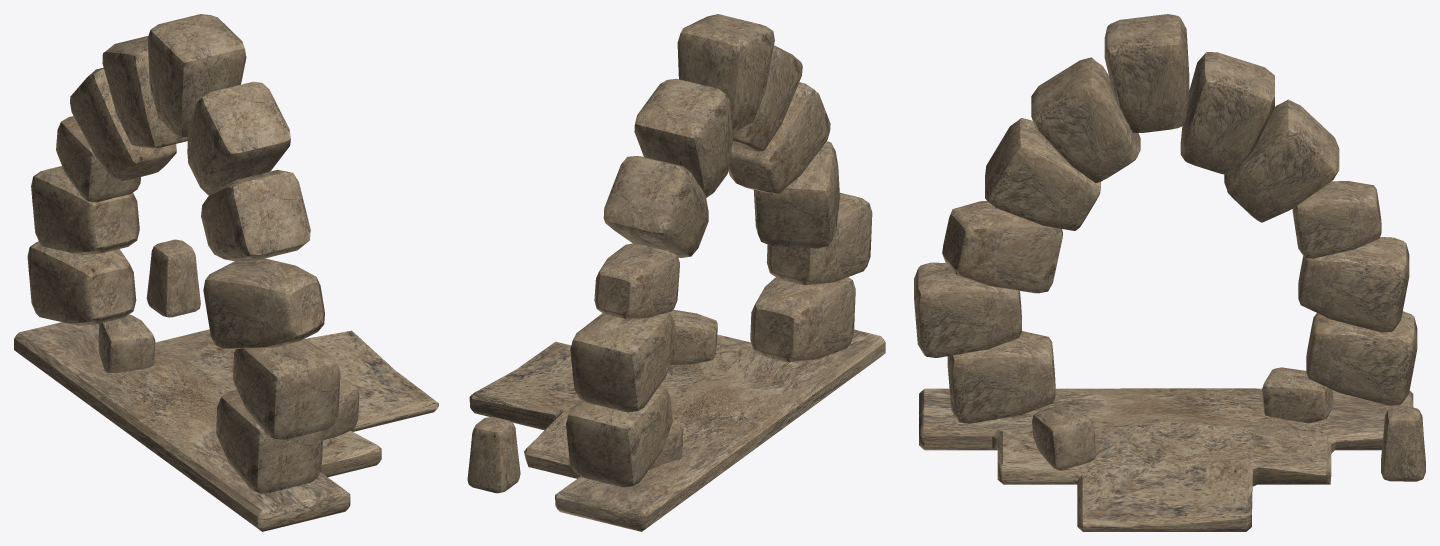
The model's file is portal.glb.
The picture shows the model from 3 angles, left to right: view 1: azimuth 30°, elevation 25°; view 2: azimuth 150°, elevation 25°; view 3: azimuth 270°, elevation 25°; orthographic projection.
Parts seen in each view (by area): view 1: Object_3, Object_2; view 2: Object_3, Object_2; view 3: Object_3, Object_2.
Boxes of the visible parts, bbox=[...] form: Object_3: bbox=[14, 14, 436, 529]; Object_2: bbox=[15, 334, 438, 531]; Object_3: bbox=[467, 14, 885, 529]; Object_2: bbox=[469, 336, 883, 531]; Object_3: bbox=[914, 14, 1425, 531]; Object_2: bbox=[919, 389, 1413, 531].
Size of the model in its own units: 8.26 by 12.4 by 14.12.
1 material, 1 textured.
